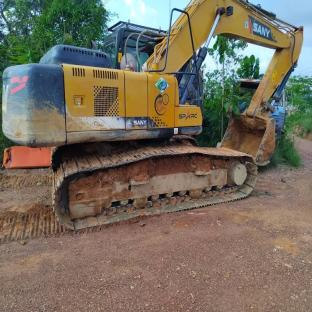ExcavationMachinery: (1, 2, 306, 230)
